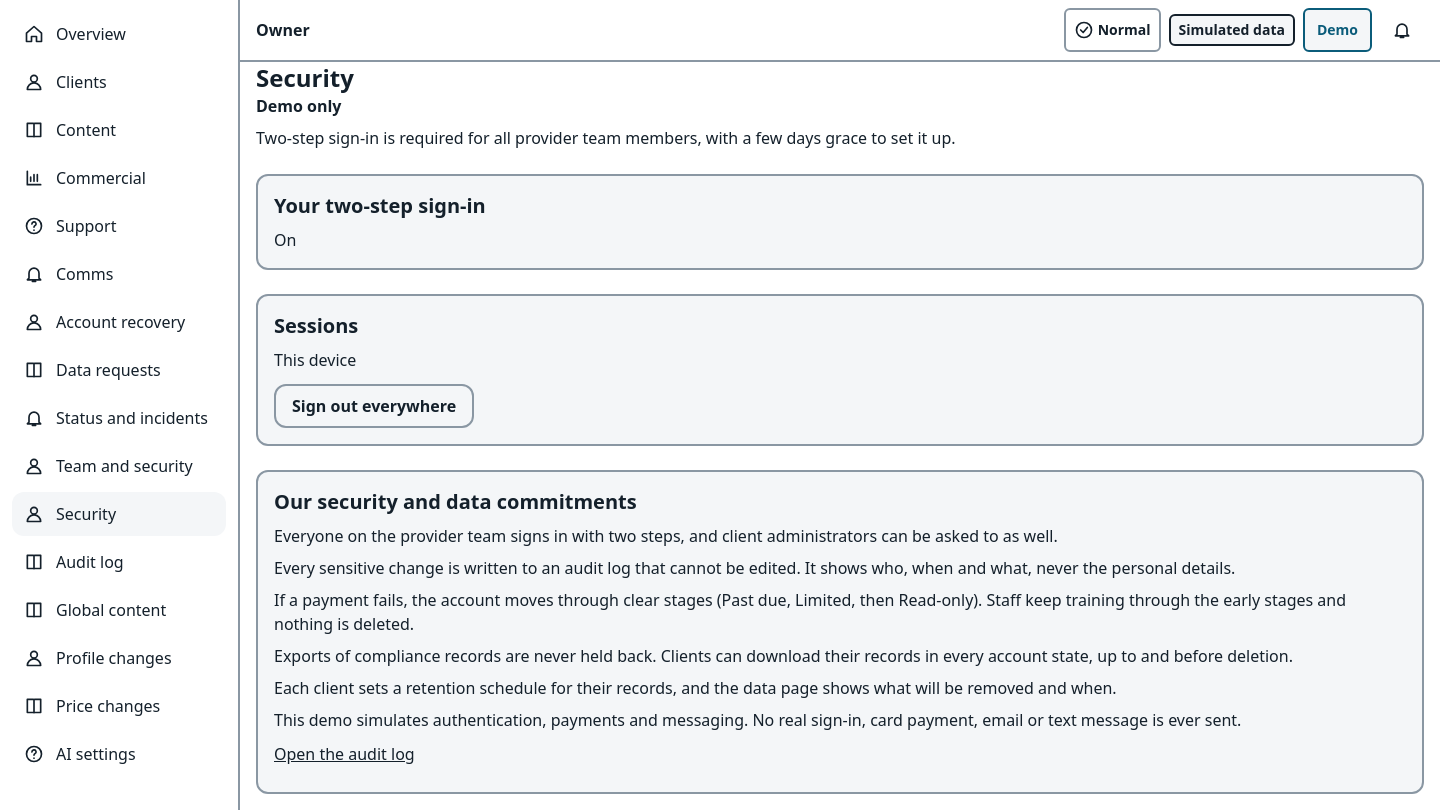
Scenario: P19 Security › lists this device as the only session and signs out everywhere with a plain confirmation
Expected: the heading "Security" is shown, [256,62,354,94]
Expected: the number of list items with test id "session-row" is 1, [274,349,356,371]
Click the button "Sign out everywhere".
click(374, 406)  # box [274,384,474,428]
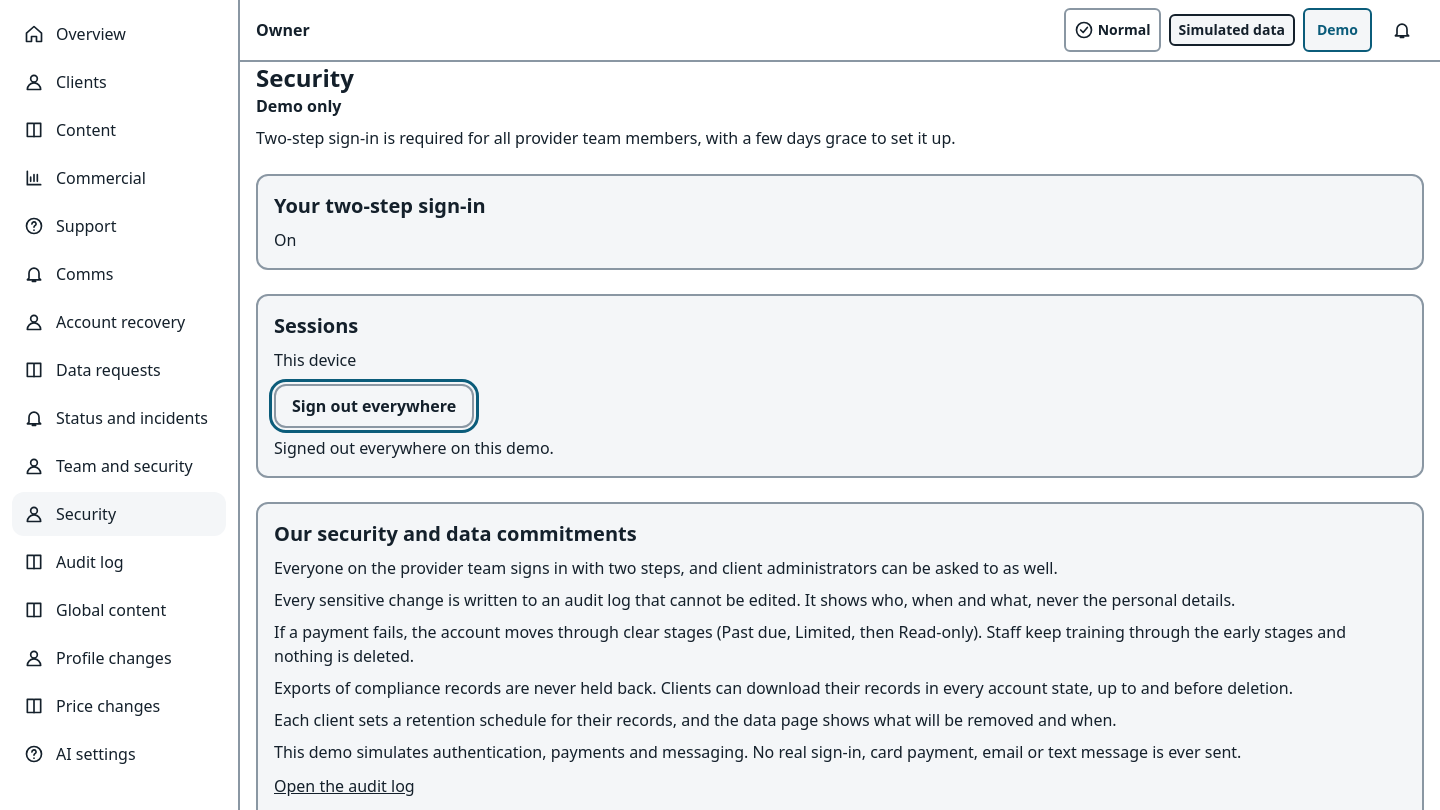
Expected: the message "Signed out everywhere on this demo." is shown, [274,437,554,459]
